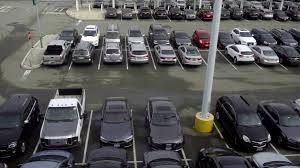car: (214, 94, 273, 152), (39, 87, 86, 147), (143, 96, 188, 151), (257, 98, 300, 153), (1, 94, 39, 155), (99, 96, 137, 147), (41, 40, 73, 65), (224, 43, 255, 68), (249, 44, 280, 66), (100, 41, 125, 67), (272, 44, 300, 67), (70, 42, 97, 65), (230, 25, 257, 47), (251, 25, 278, 47), (125, 42, 150, 65), (153, 43, 179, 65), (177, 45, 203, 67), (271, 27, 298, 47), (148, 23, 171, 46), (192, 28, 213, 48), (170, 29, 194, 46), (80, 24, 99, 44), (215, 30, 236, 47), (127, 25, 145, 43), (105, 24, 123, 42), (198, 6, 216, 22), (59, 27, 78, 42), (168, 5, 183, 20), (182, 8, 198, 22), (284, 5, 300, 19), (246, 6, 261, 20), (151, 6, 168, 18), (260, 8, 275, 21), (137, 5, 153, 17), (217, 6, 231, 19), (230, 5, 244, 18), (274, 10, 288, 21), (121, 7, 134, 18), (105, 6, 117, 17)
